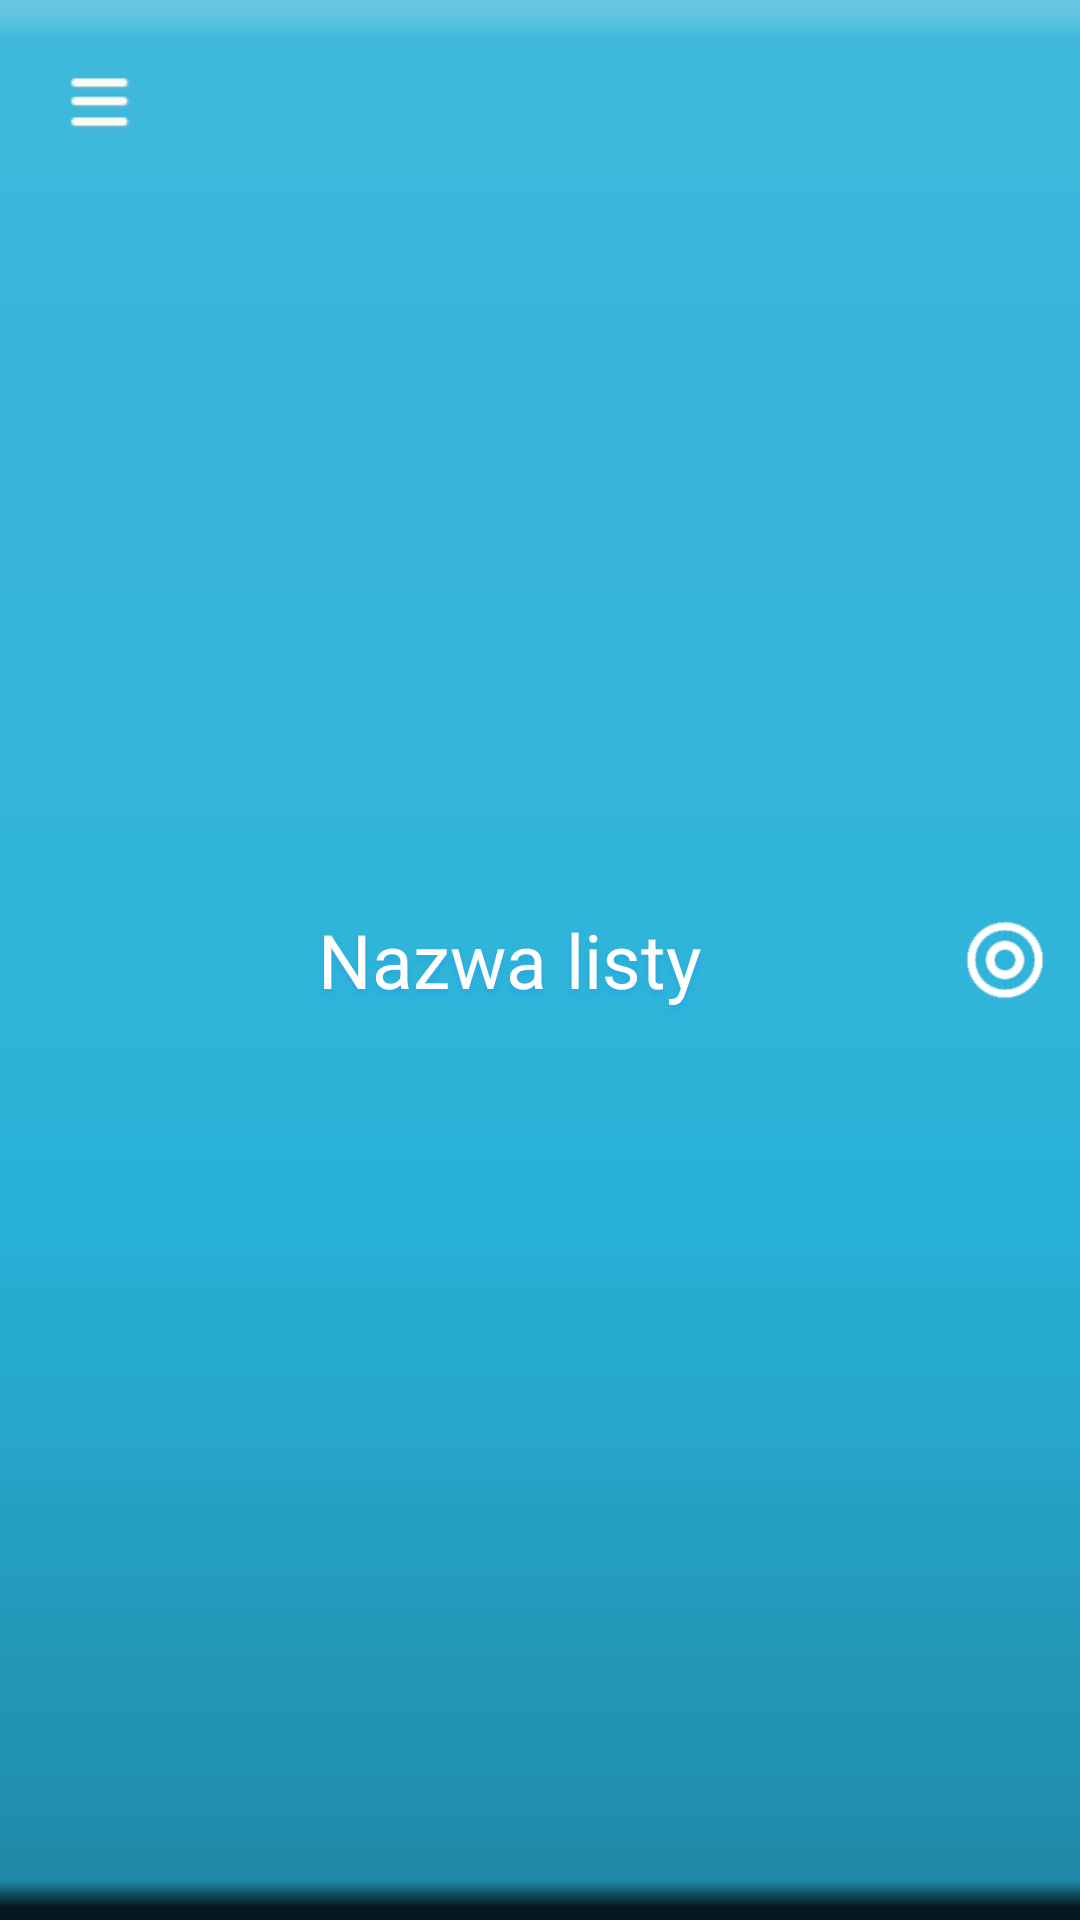

Where to tap for icons on this 1080 × 1920 app screen, as (x,y):
menu: (100,103)
